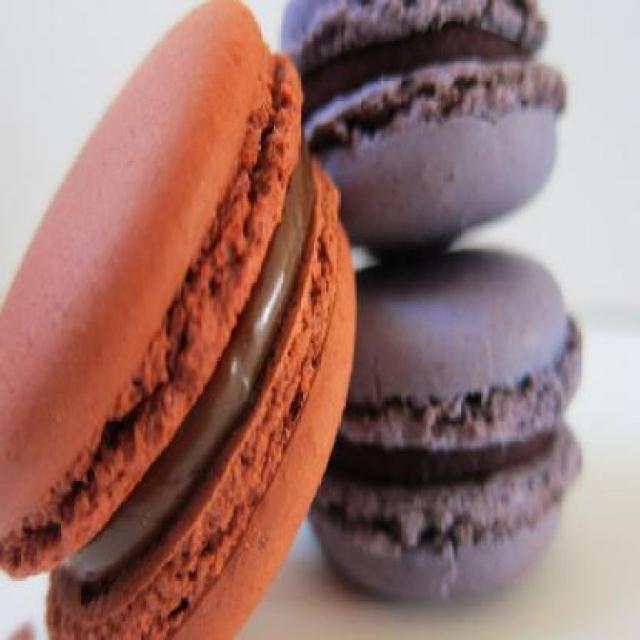Macaron: (4, 2, 598, 638)
